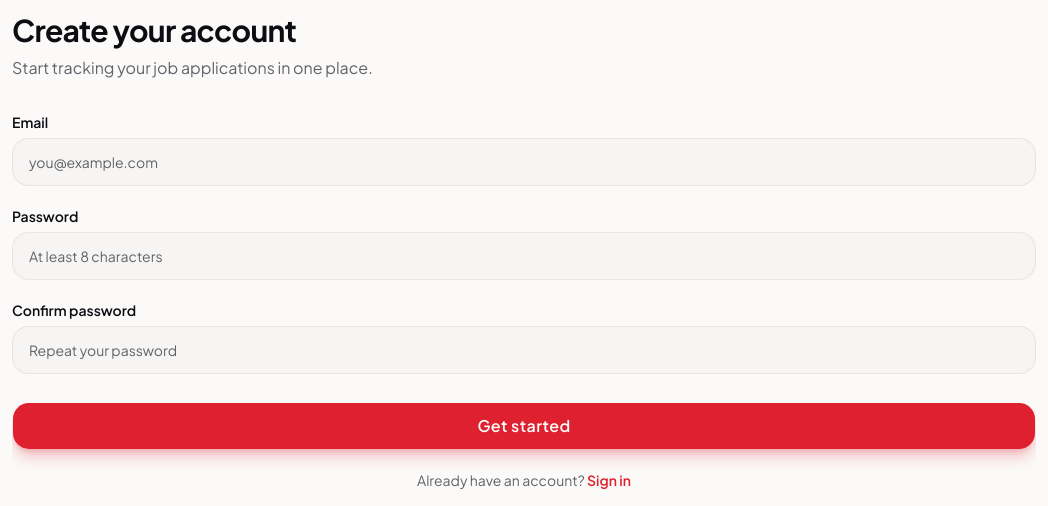
Test case: SignupForm › shows confirmation message when email confirmation is required
Type "user@example.com" into the field labelled "Email" at (524, 162), box [12, 138, 1036, 186]
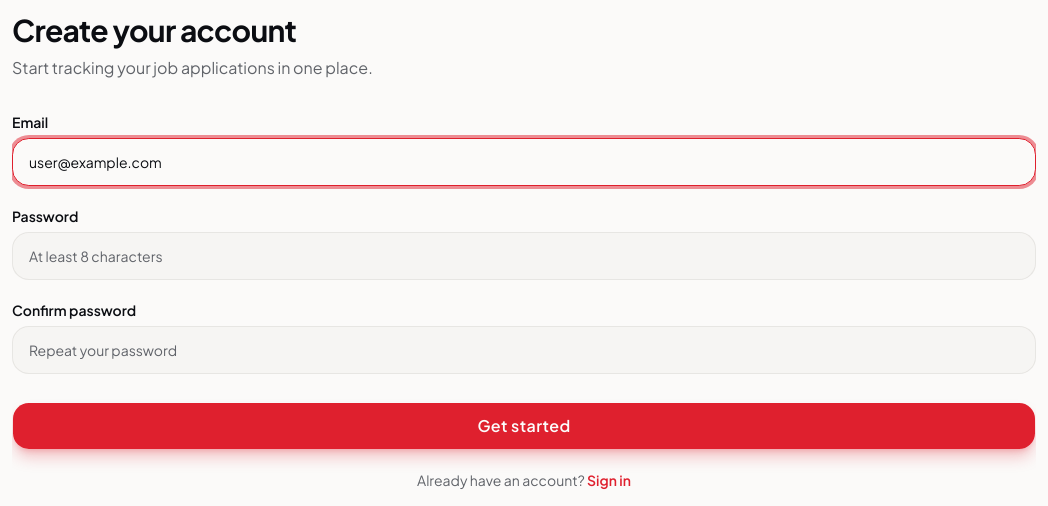
Type "password123" into the password field labelled "Password" at (524, 256), box [12, 232, 1036, 280]
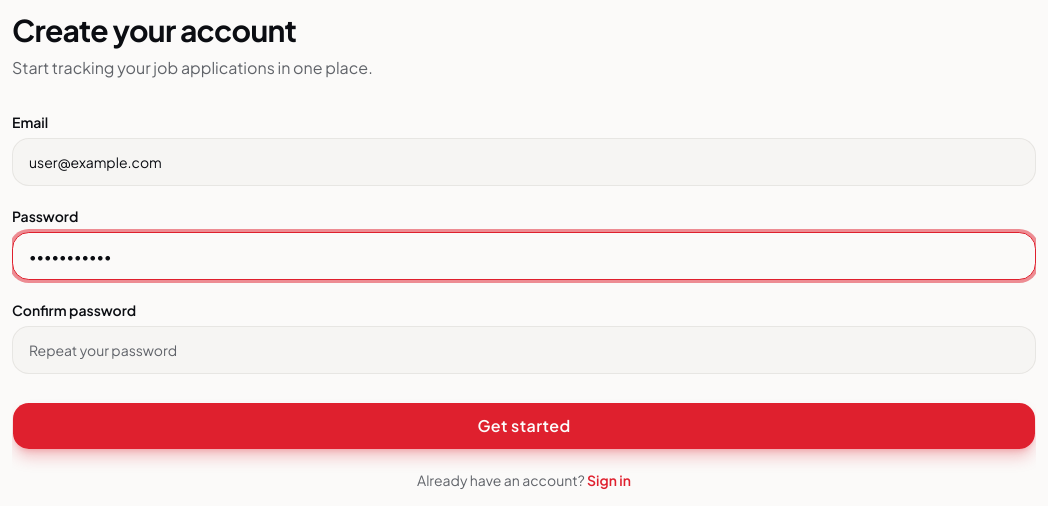
Type "password123" into the password field labelled "Confirm password" at (524, 350), box [12, 326, 1036, 374]
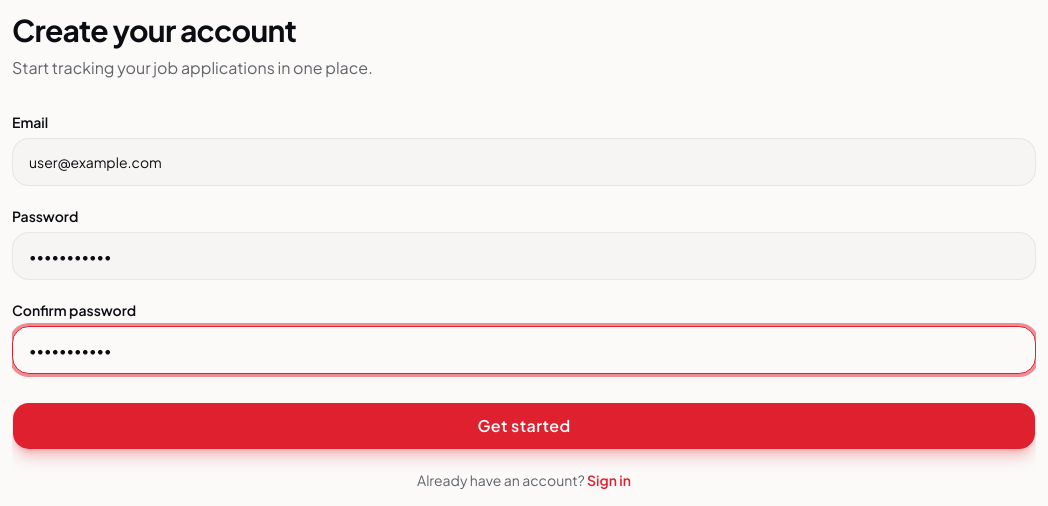
Click the button "Get started" at (524, 426), box [12, 402, 1036, 450]
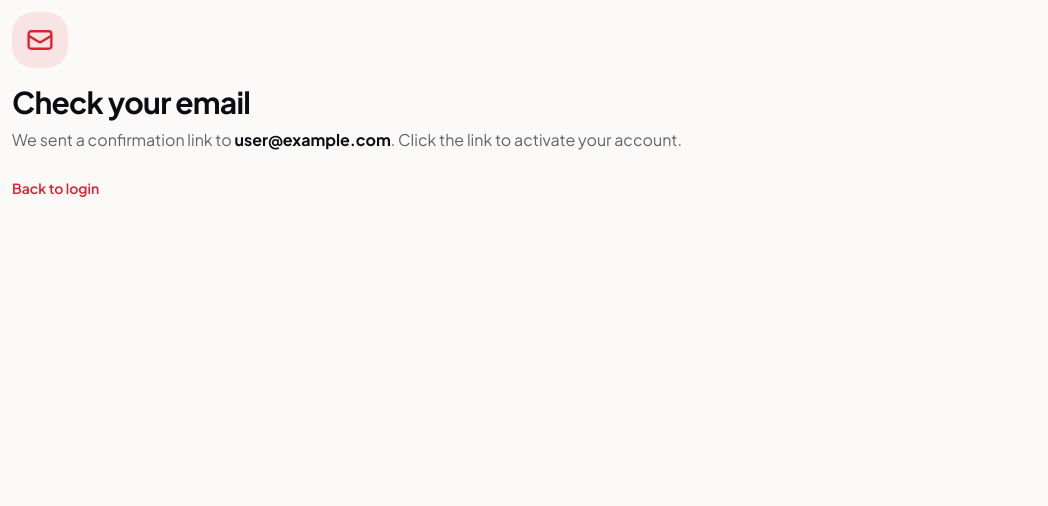
expect the heading "Check your email" is shown: met, box [12, 83, 250, 121]
expect the text "user@example.com" is shown: met, box [234, 129, 391, 150]
